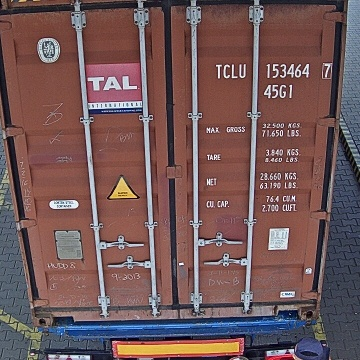serial_id: (215, 63, 331, 78)
